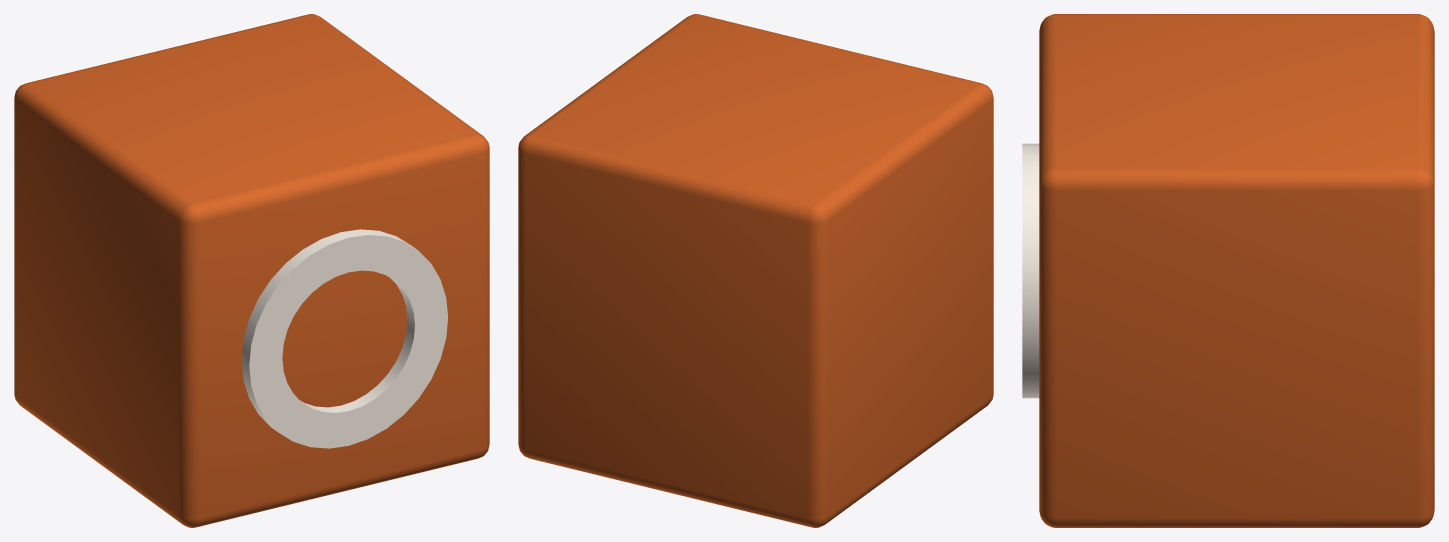
Rendered from Icons_B.FBX.
3 views of the same model, side by side, from view 1: azimuth 30°, elevation 25°; view 2: azimuth 150°, elevation 25°; view 3: azimuth 270°, elevation 25° (orthographic). The views are drawn at different scales.
Visible parts, largest first — view 1: Icons_B; view 2: Icons_B; view 3: Icons_B.
Part boxes in pixels (left/top/right/bottom): Icons_B: left=14, top=14, right=489, bottom=527; Icons_B: left=518, top=14, right=993, bottom=527; Icons_B: left=1022, top=14, right=1434, bottom=527.
Bounding box in the file's own units: 46.56 × 46.56 × 48.54.
